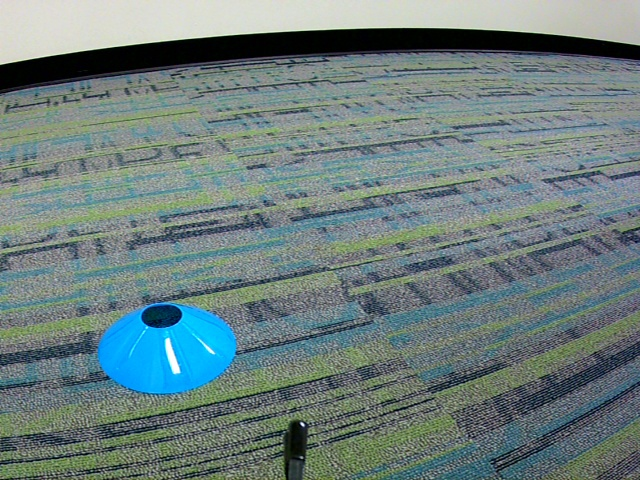cone: (96, 300, 237, 395)
